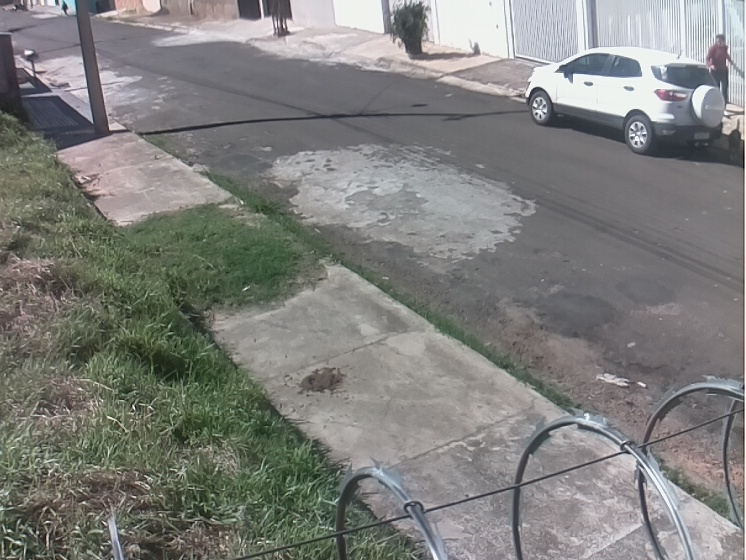person: (705, 34, 733, 114)
